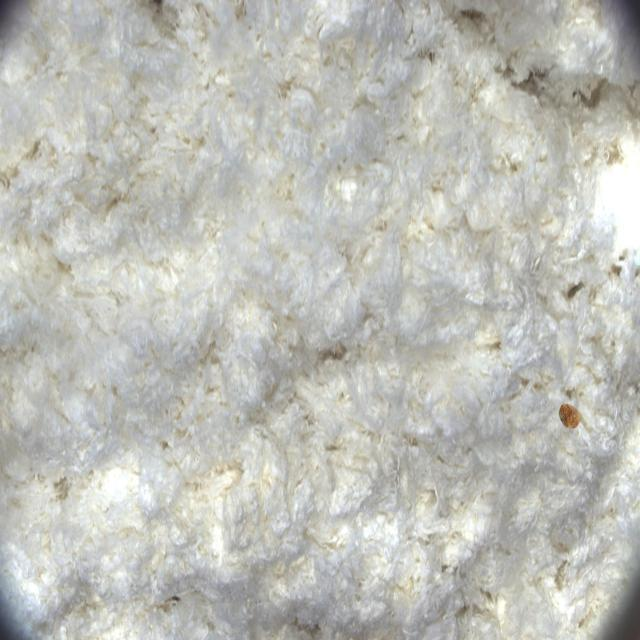dust: (550, 392, 593, 441)
